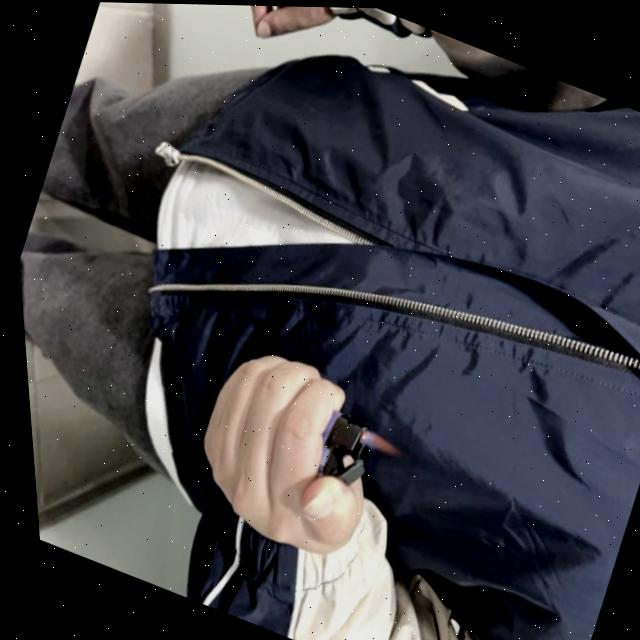Fire: (355, 426, 397, 454)
